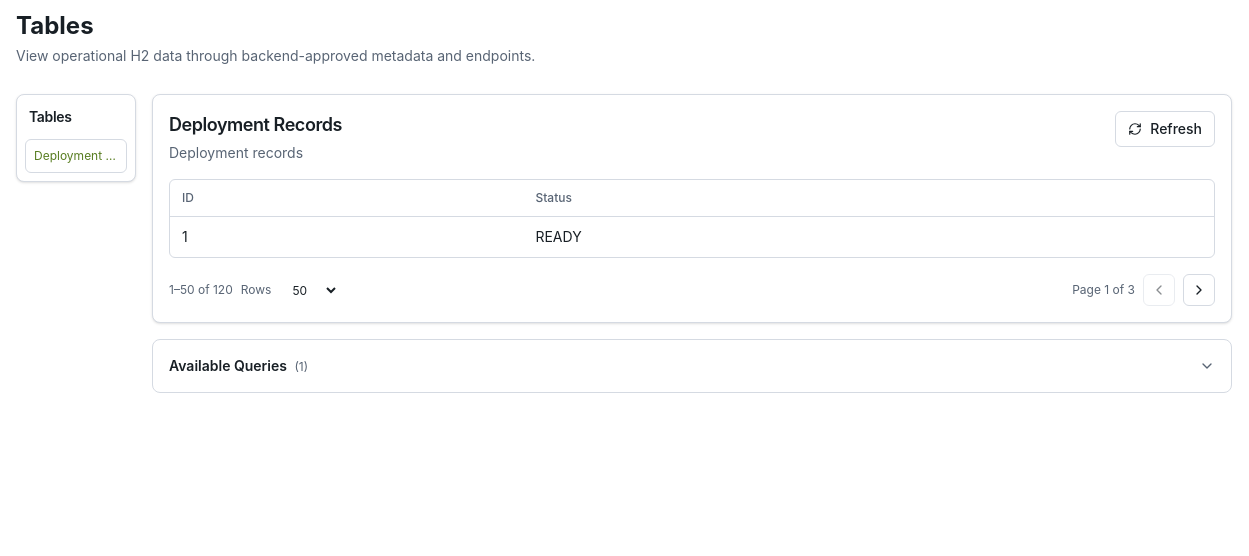
Test: TablesPage metadata-driven queries › prevents duplicate mutation submissions while the first request is pending
This screenshot has width=1249, height=556.
Expected: the button "READY" is shown, [535,227,855,247]
Click the heading "Available Queries (1)" at (230, 366), box [169,357,1215,374]
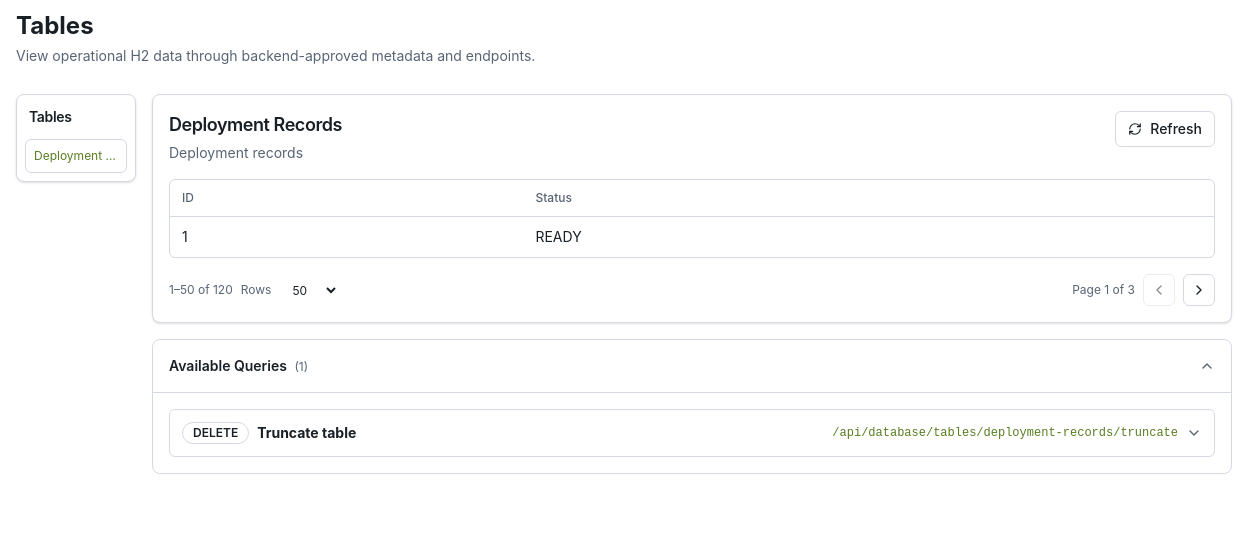
Click the text "Truncate table" at (307, 433), box [257,423,356,443]
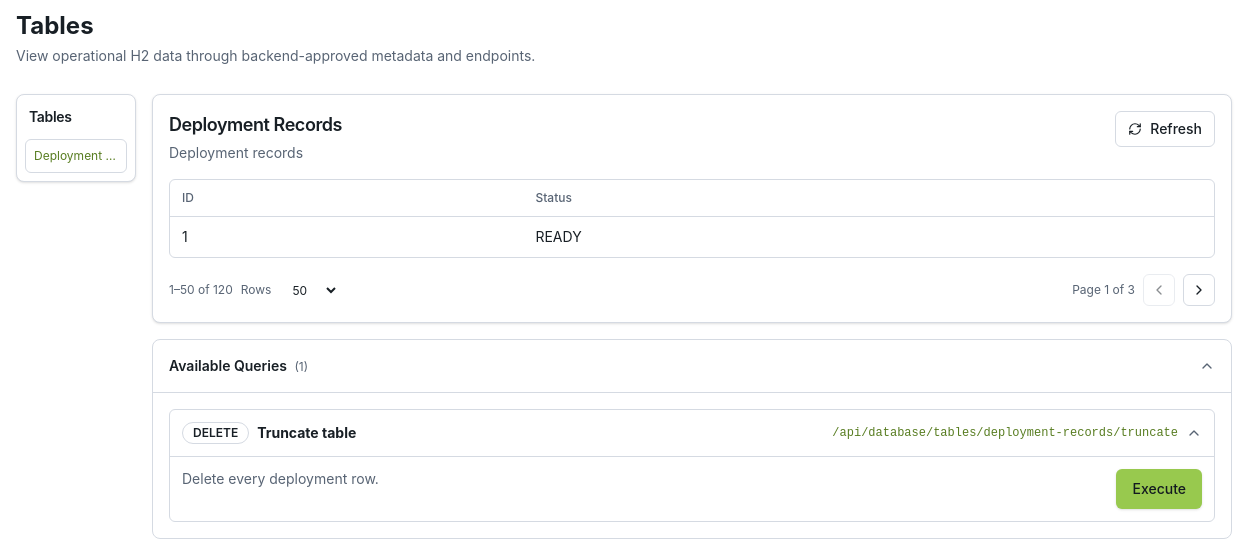
Double-click the button "Execute" at (1159, 489), box [1116,469,1202,509]
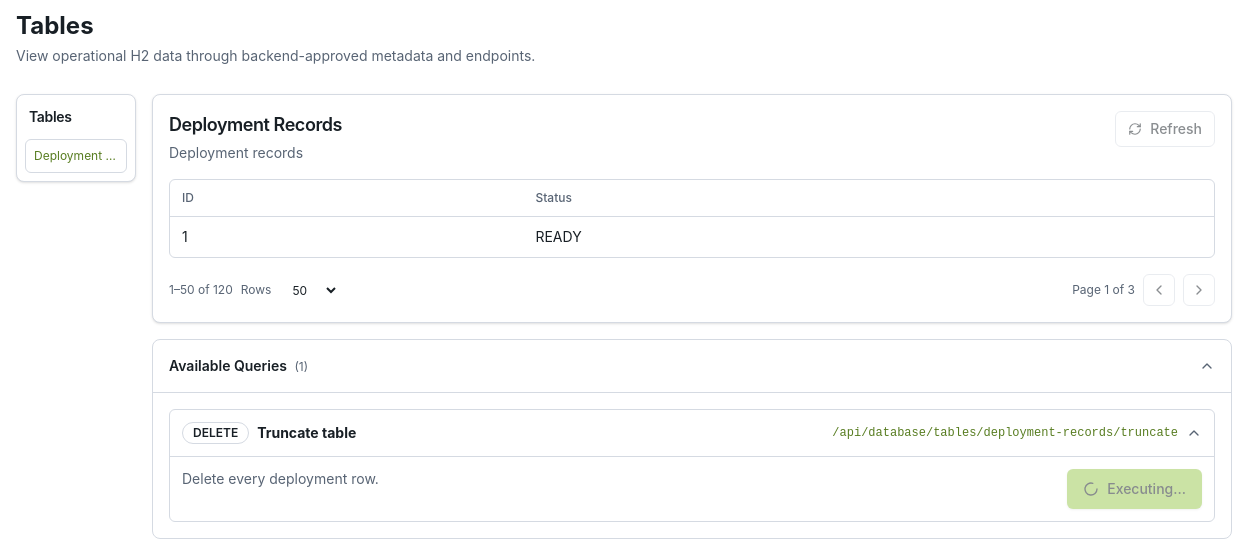
Expected: the button "Executing…" is disabled, [1067,469,1202,509]
